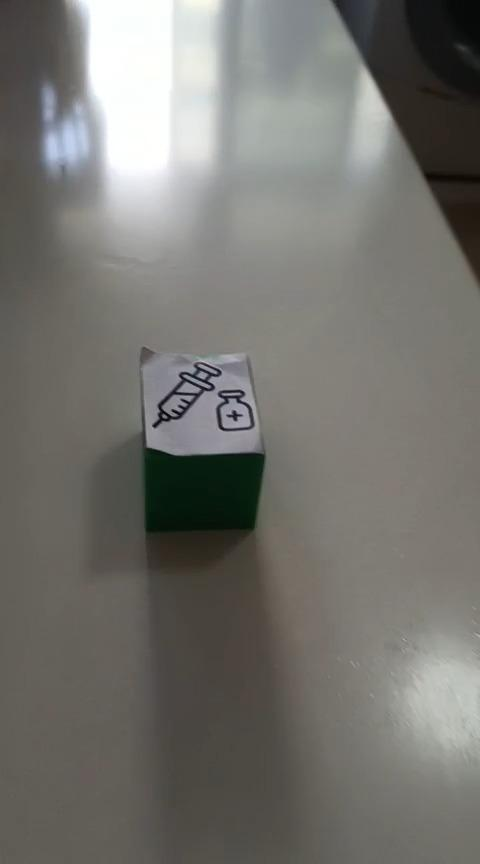antiseptic cream: (137, 344, 266, 533)
